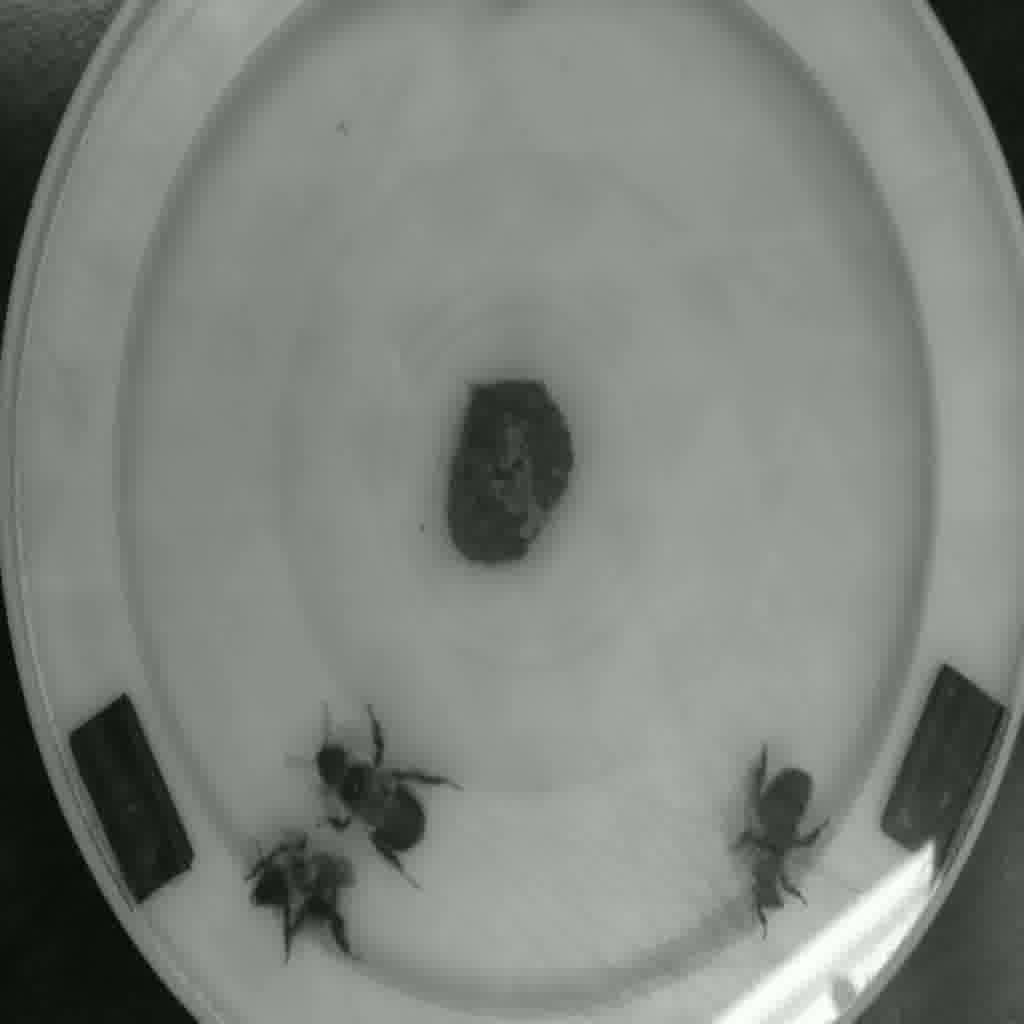bee: (297, 744, 453, 860), (232, 828, 372, 955), (729, 766, 832, 923)
